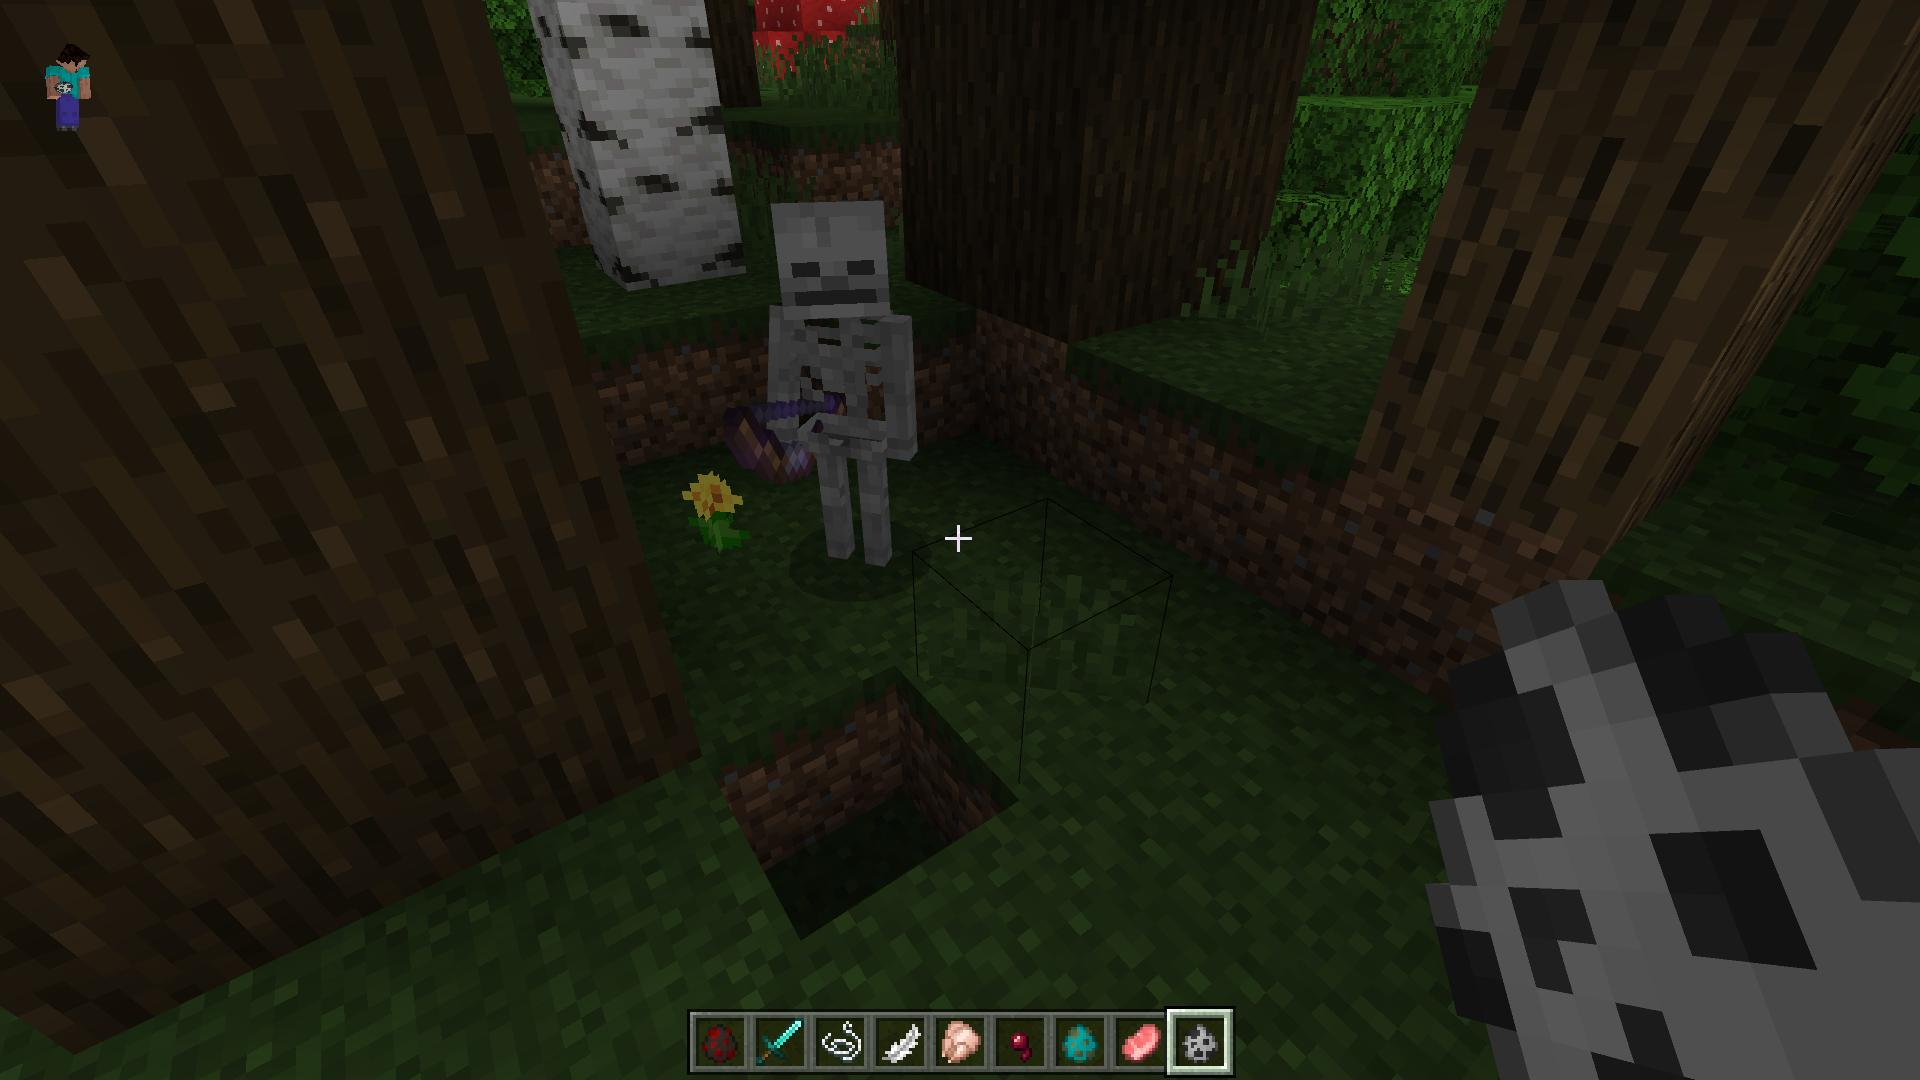skeleton: (733, 191, 927, 574)
